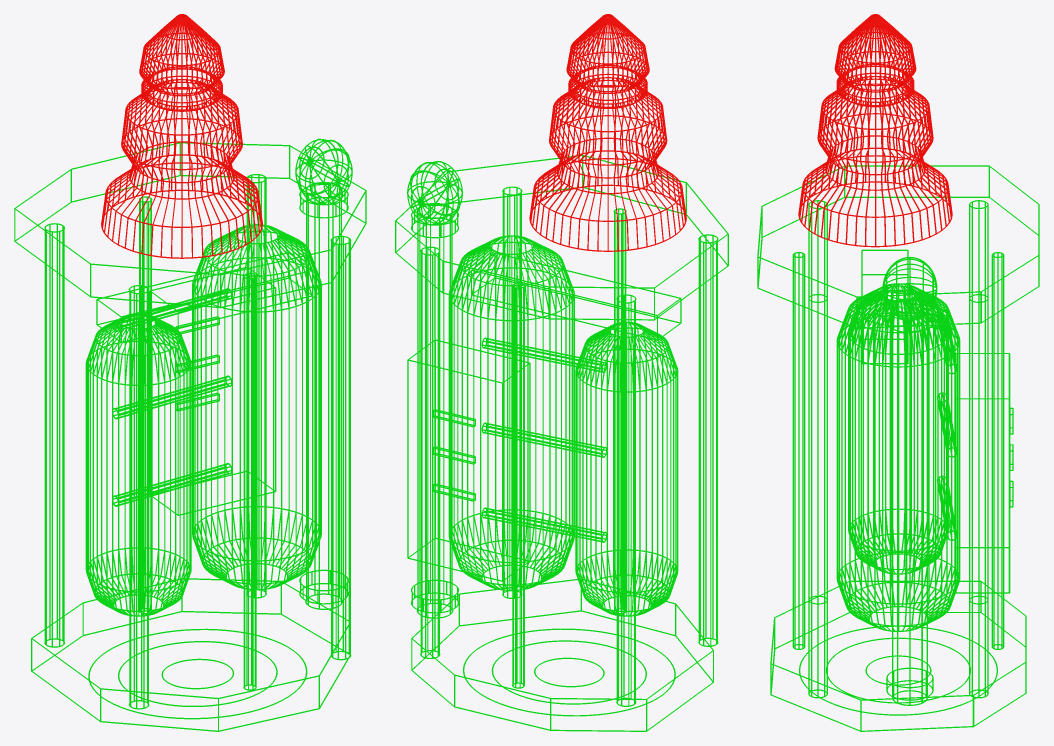
File: turret-optimiser-highlight-stored-energy-output.glb
3 renders of one model, left to right at view 1: azimuth 30°, elevation 25°; view 2: azimuth 150°, elevation 25°; view 3: azimuth 270°, elevation 25°, orthographic. The views are drawn at different scales.
Visible parts, largest first — view 1: flux-capacitor-system technical wire, chassis technical wire, stored-energy-output technical wire, manual-pulse-control technical wire; view 2: flux-capacitor-system technical wire, chassis technical wire, stored-energy-output technical wire, manual-pulse-control technical wire; view 3: flux-capacitor-system technical wire, chassis technical wire, stored-energy-output technical wire, manual-pulse-control technical wire.
Boxes of the visible parts, box(x1,y1,x2,y2) form: flux-capacitor-system technical wire: box(85, 224, 321, 616); chassis technical wire: box(14, 142, 366, 731); stored-energy-output technical wire: box(101, 14, 262, 258); manual-pulse-control technical wire: box(295, 138, 352, 609); flux-capacitor-system technical wire: box(448, 235, 681, 616); chassis technical wire: box(395, 154, 728, 731); stored-energy-output technical wire: box(529, 14, 686, 251); manual-pulse-control technical wire: box(407, 161, 462, 618); flux-capacitor-system technical wire: box(836, 249, 960, 631); chassis technical wire: box(757, 165, 1039, 731); stored-energy-output technical wire: box(798, 14, 952, 247); manual-pulse-control technical wire: box(882, 257, 937, 705).
Bounding box in the file's own units: 0.8424 × 1.85 × 0.738.
